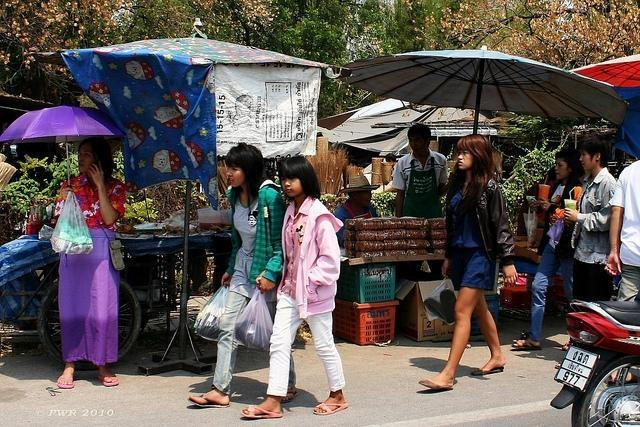motorcycle: (551, 298, 638, 425)
